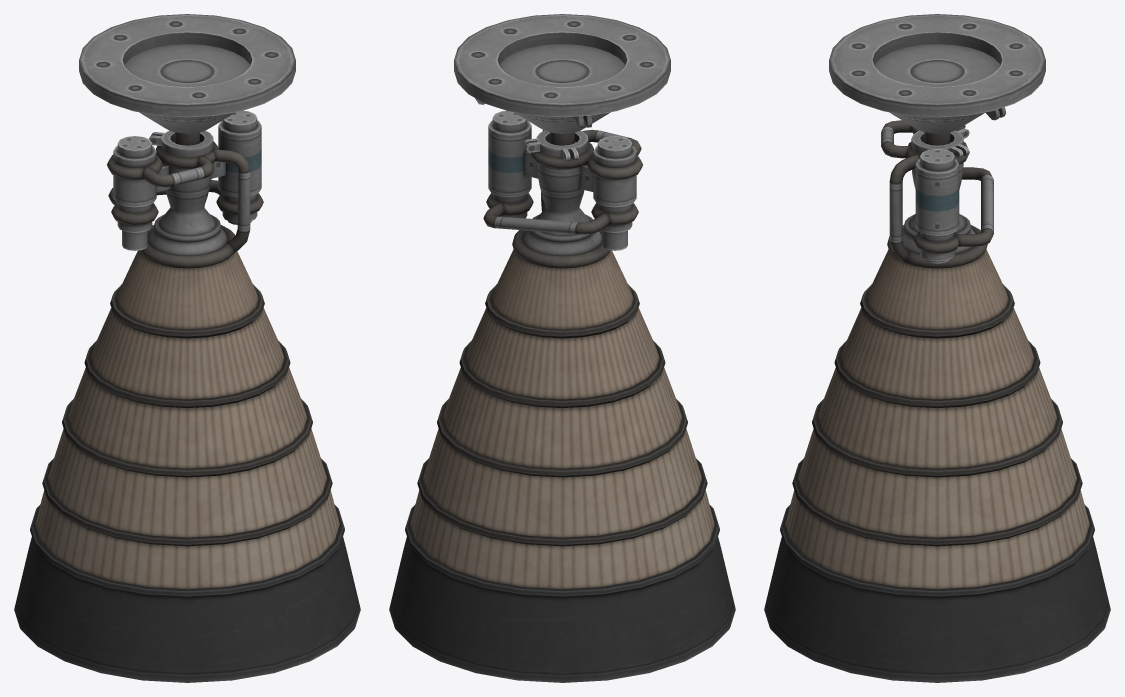
3 views of the same model, side by side, from view 1: azimuth 30°, elevation 25°; view 2: azimuth 150°, elevation 25°; view 3: azimuth 270°, elevation 25° (orthographic).
Parts seen in each view (by area): view 1: nozzle, base; view 2: nozzle, base; view 3: nozzle, base.
Part boxes in pixels (x1,y1,x2,y2): nozzle: [14, 110, 360, 682]; base: [79, 14, 295, 133]; nozzle: [389, 110, 735, 682]; base: [454, 14, 670, 133]; nozzle: [764, 120, 1110, 682]; base: [829, 14, 1045, 133].
Bounding box in the file's own units: 1 × 1.75 × 1.
2 materials, 2 textured.
